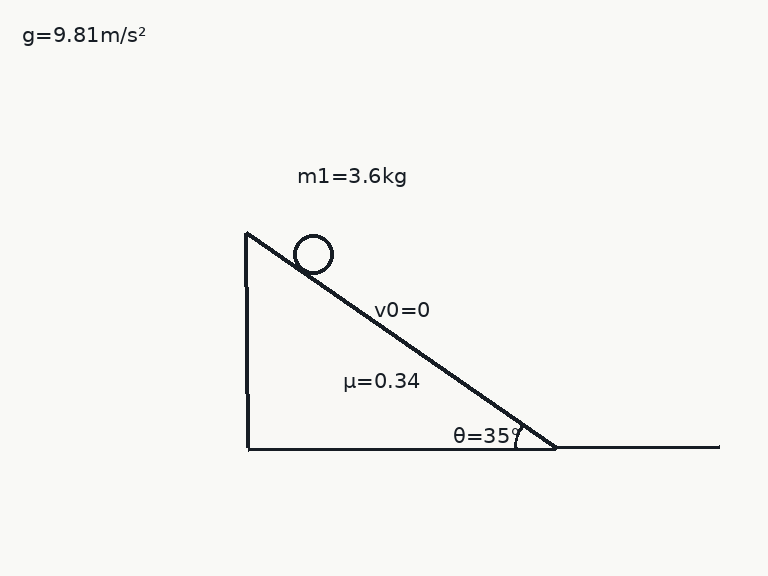ball: (291, 232, 335, 276)
ramp: (245, 230, 557, 450)
